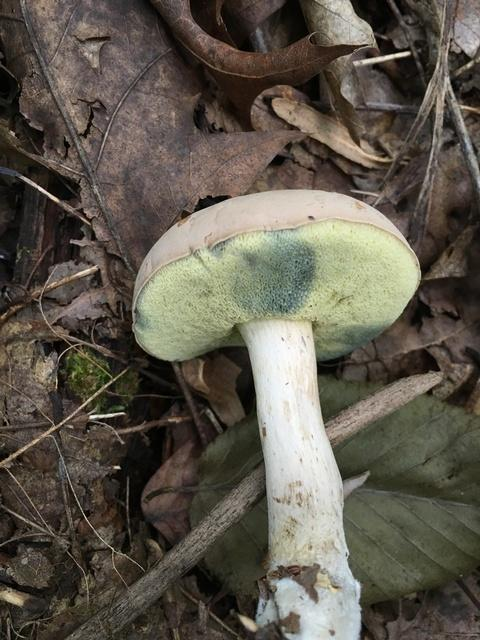Edible Mushroom: (130, 187, 422, 638)
